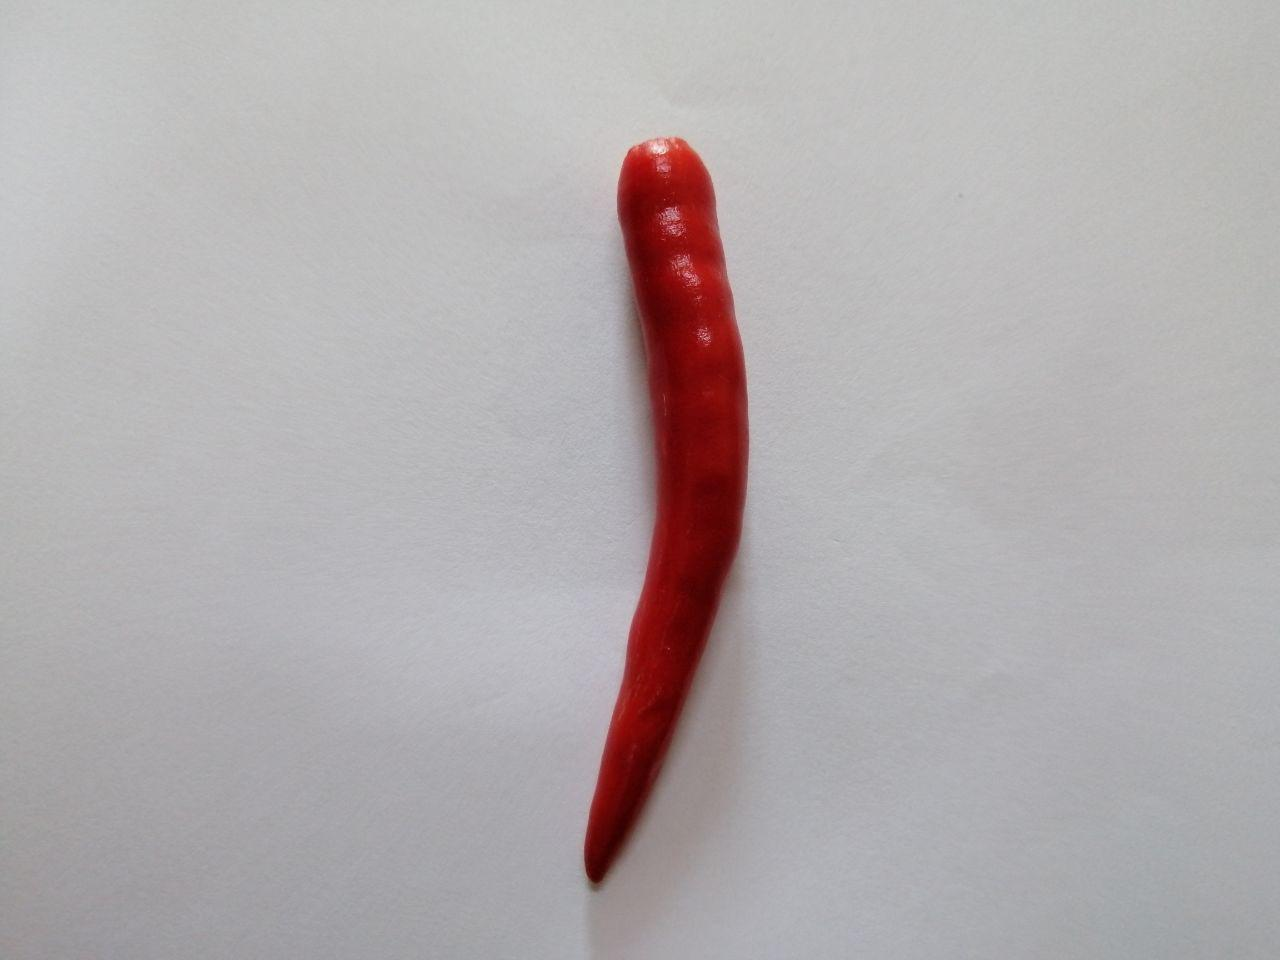lada merah: (547, 109, 768, 899)
